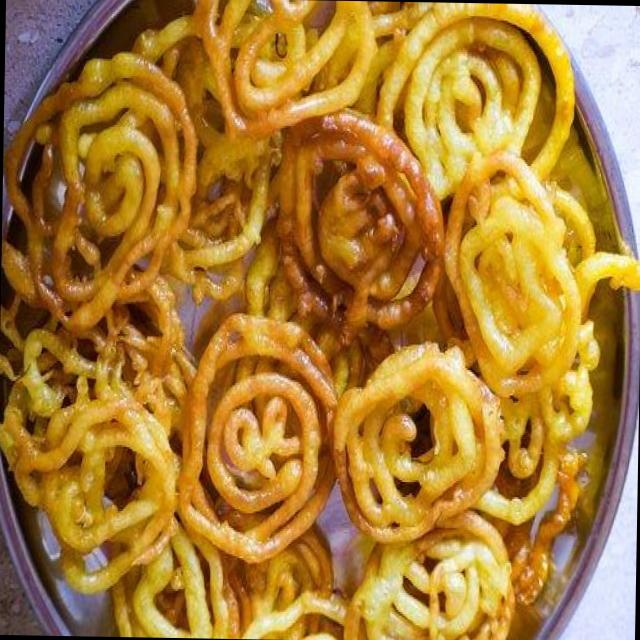jalebi: (7, 0, 636, 640)
